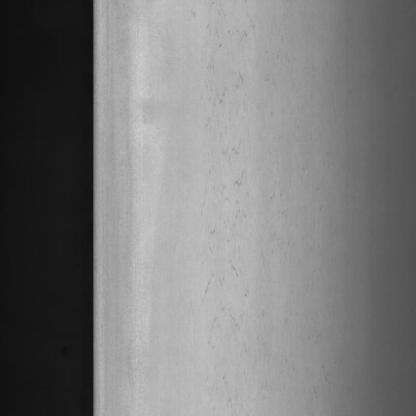silk_spot: (193, 10, 261, 392)
